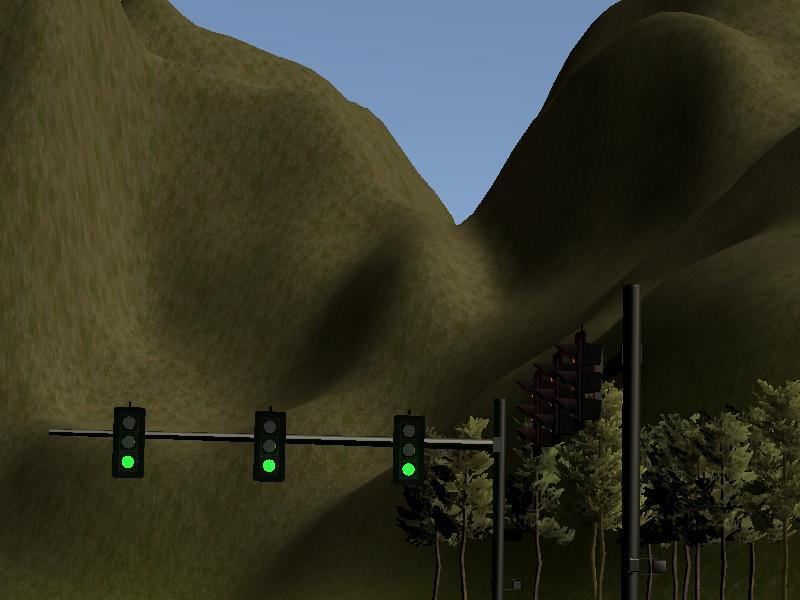Green: (113, 407, 145, 477), (393, 414, 425, 484), (253, 411, 285, 481)
